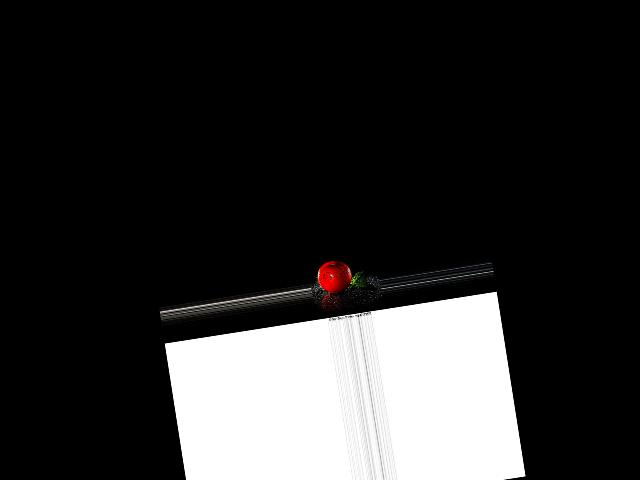tomato: (315, 258, 354, 294)
